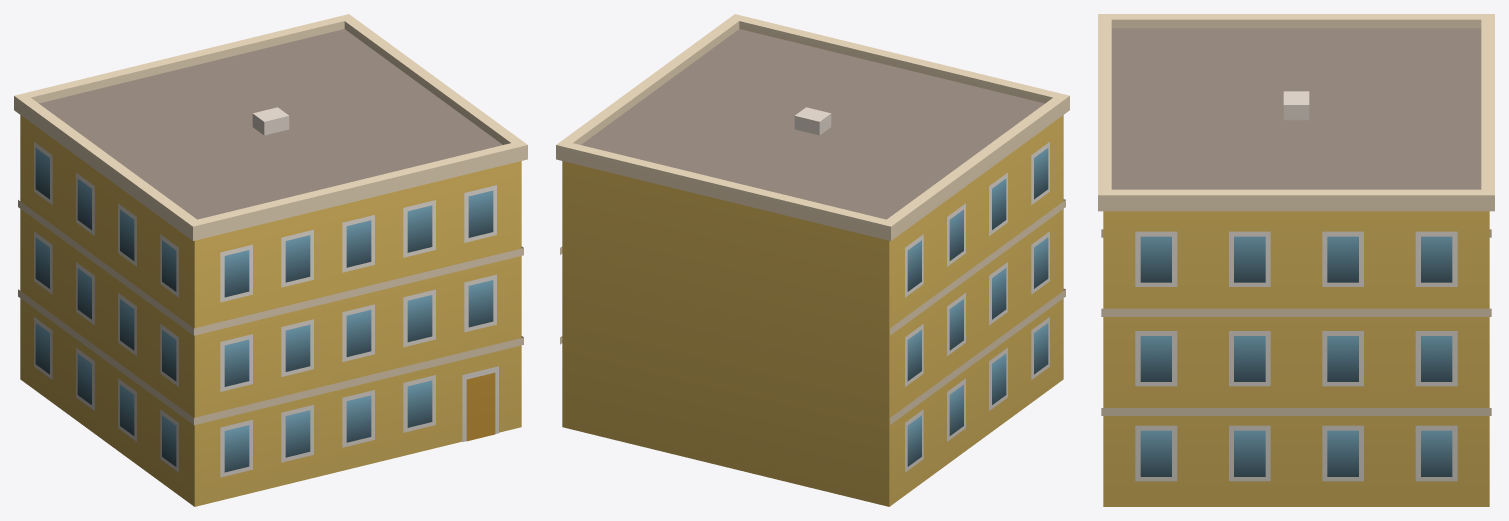
File: vee_rightbb3_far.glb
The picture shows the model from 3 angles, left to right: view 1: azimuth 30°, elevation 25°; view 2: azimuth 150°, elevation 25°; view 3: azimuth 270°, elevation 25°; orthographic projection. The views are drawn at different scales.
Parts seen in each view (by area): view 1: vee_rightbb3_far; view 2: vee_rightbb3_far; view 3: vee_rightbb3_far.
Boxes of the visible parts, x1=… form: vee_rightbb3_far: x1=14, y1=14, x2=527, y2=506; vee_rightbb3_far: x1=556, y1=14, x2=1069, y2=506; vee_rightbb3_far: x1=1098, y1=14, x2=1494, y2=506.
Size of the model in its own units: 13.32 by 10.97 by 12.32.
1 material, 1 textured.
